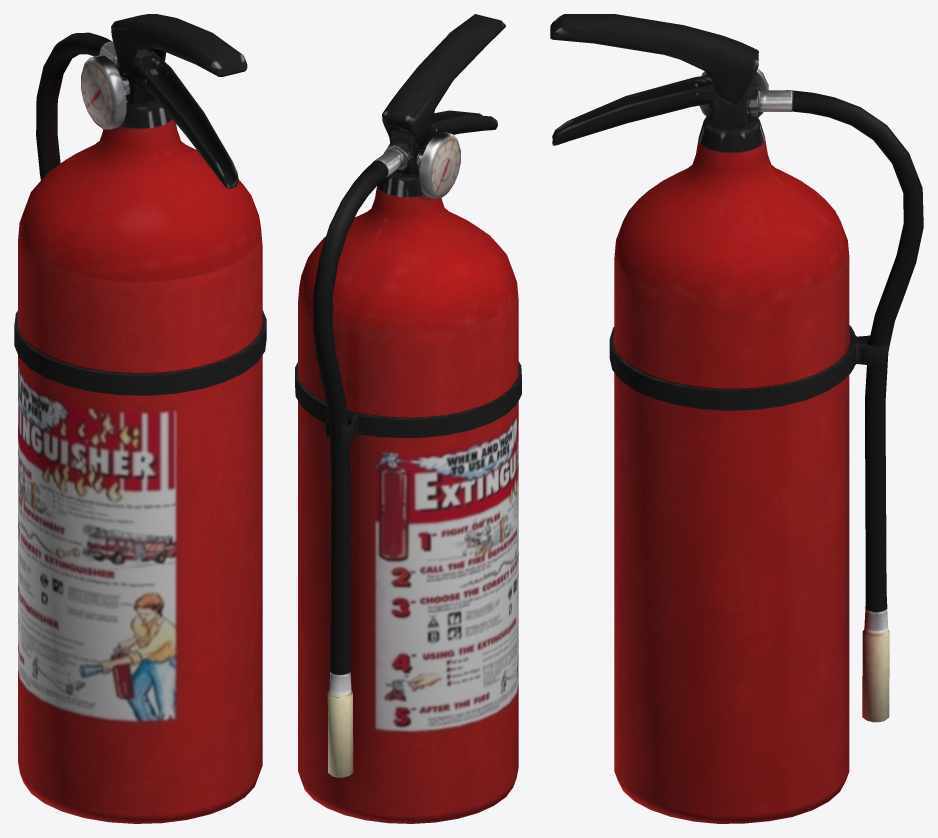
The model's file is SM_FireExtinguisher_01.fbx.
The picture shows the model from 3 angles, left to right: view 1: azimuth 30°, elevation 25°; view 2: azimuth 150°, elevation 25°; view 3: azimuth 270°, elevation 25°; orthographic projection. The views are drawn at different scales.
Visible parts, largest first — view 1: SM_FireExtinguisher_01_LOD0; view 2: SM_FireExtinguisher_01_LOD0; view 3: SM_FireExtinguisher_01_LOD0.
Boxes of the visible parts, x1,y1,x2,y2 form: SM_FireExtinguisher_01_LOD0: (14, 14, 266, 823); SM_FireExtinguisher_01_LOD0: (295, 14, 521, 823); SM_FireExtinguisher_01_LOD0: (550, 14, 923, 823).
Bounding box in the file's own units: 16.49 × 25.17 × 56.45.
1 material, 1 textured.
